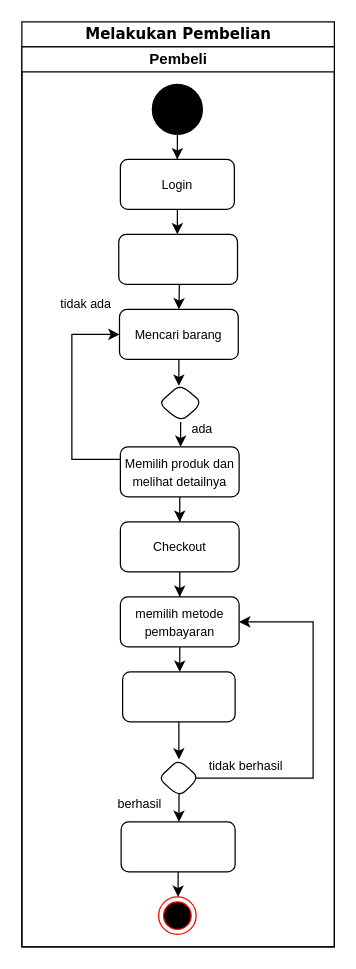
Image size: 356x969. Some labels were removed from this diagram. The box of each missing label's shape, as (x1, y1, x2, y2) in pixels:
Melakukan Pembayaran: (121, 671, 235, 722)
Menerima produk: (120, 821, 235, 872)
Produk muncul di beranda: (118, 233, 238, 284)
